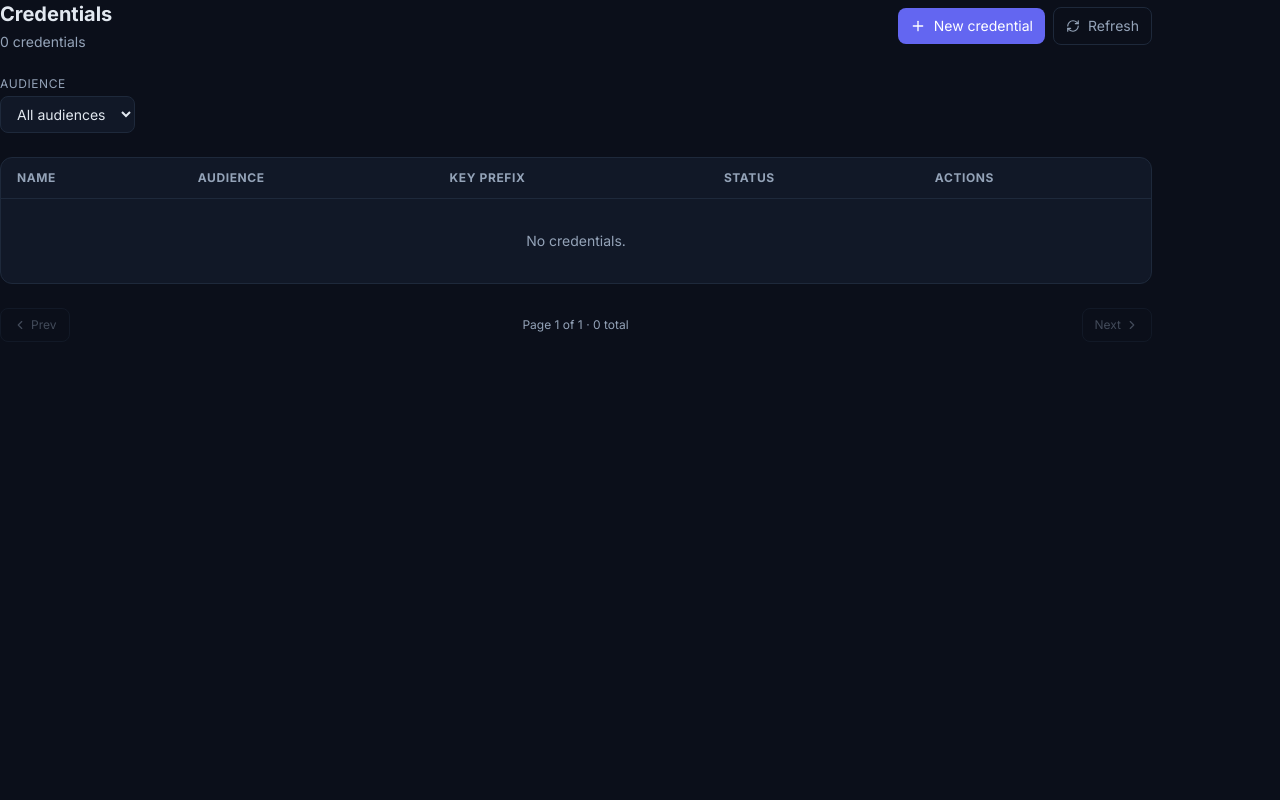
Scenario: CredentialsPage › reveals the raw key once and never persists it to storage
expect the text "No credentials." is shown: met, box x1=526 y1=232 x2=626 y2=249
Click the button "New credential" at [971, 26], box x1=898 y1=8 x2=1045 y2=44
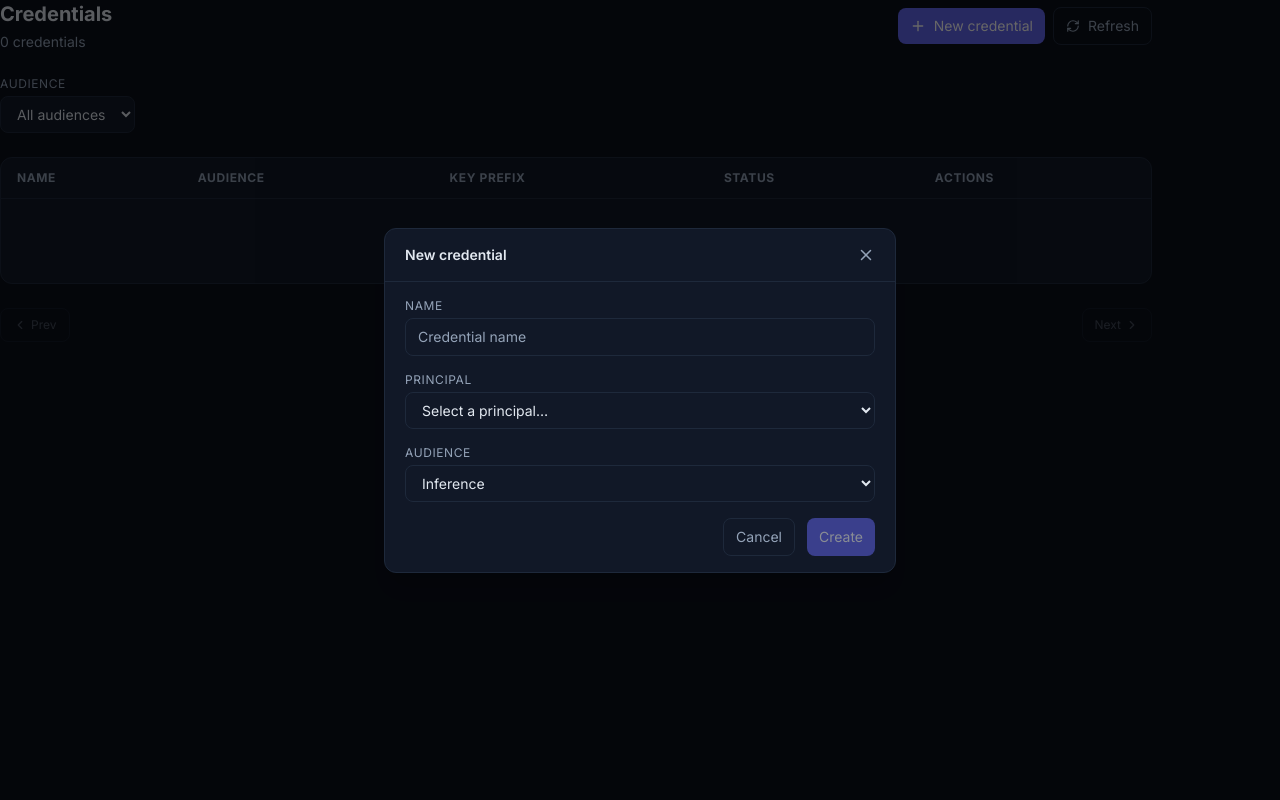
Type "inference-key" into the field labelled "Name" at [640, 336], box x1=405 y1=318 x2=875 y2=356
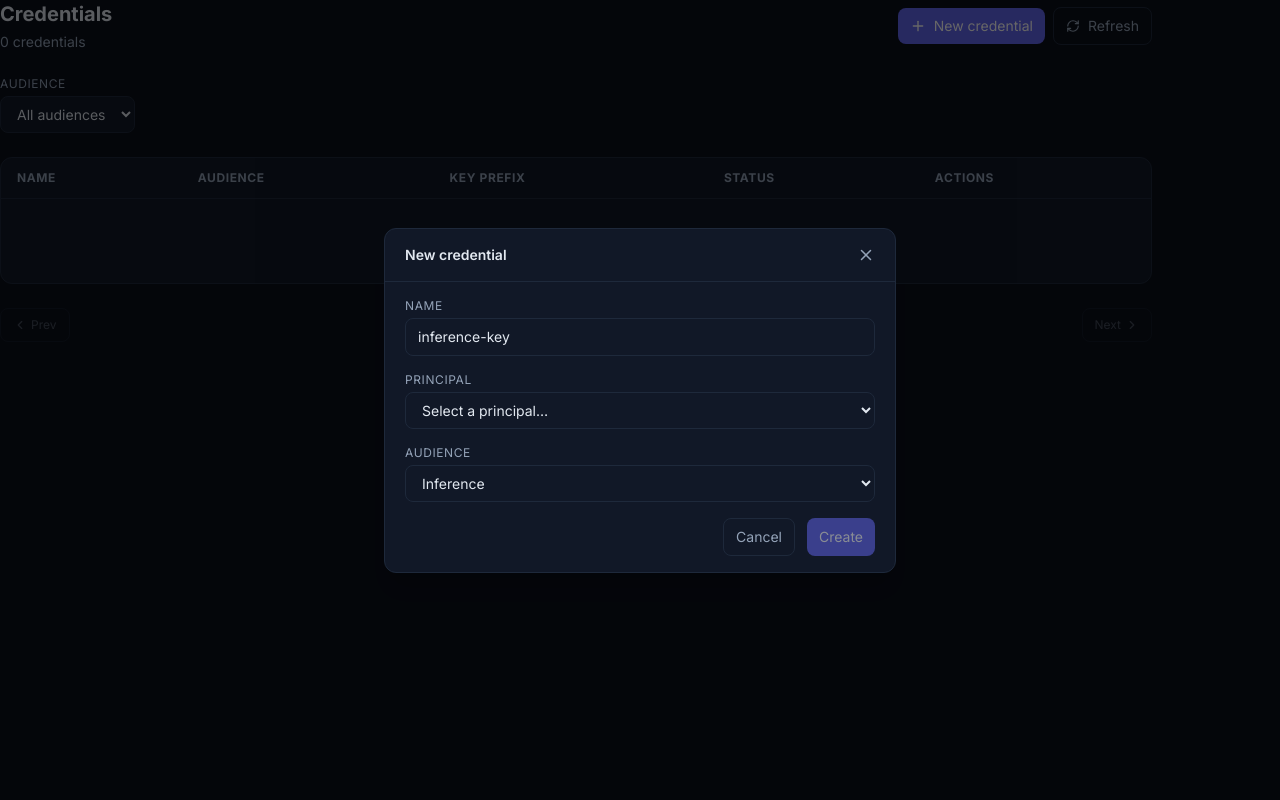
Select "alice" in the dropdown labelled "Principal" at [640, 410], box x1=405 y1=392 x2=875 y2=428
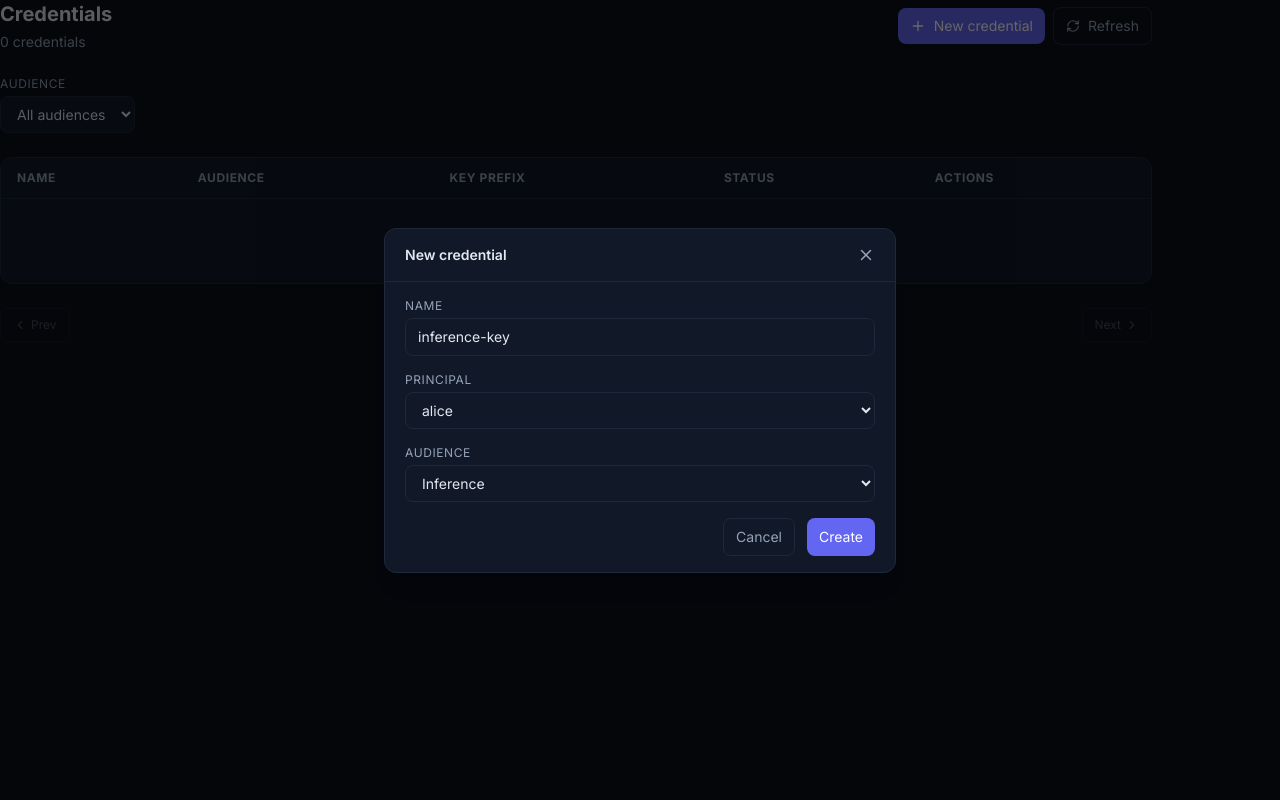
Click the button "Create" at [841, 536], box x1=807 y1=518 x2=875 y2=556
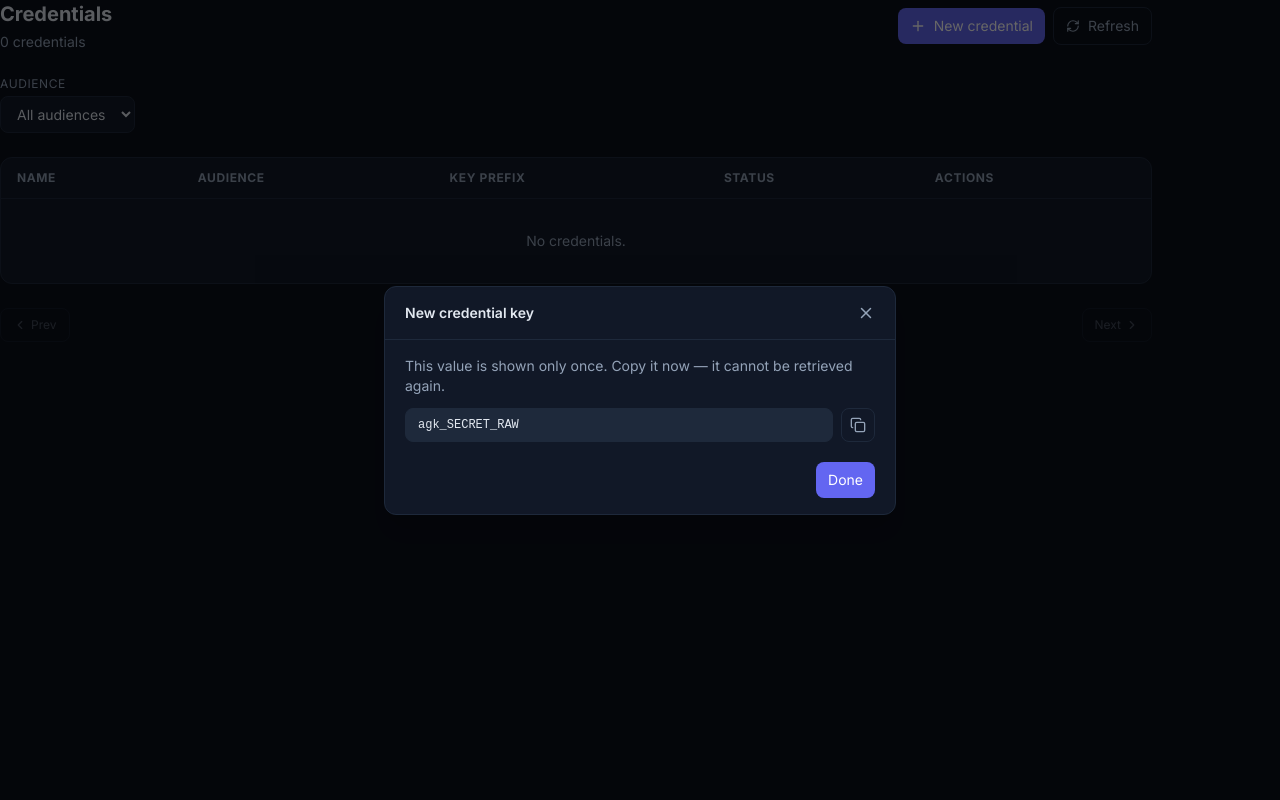
expect the text "agk_SECRET_RAW" is shown: met, box x1=405 y1=408 x2=833 y2=442
Note: Dismissing the reveal destroys the in-memory value.
Click the button "Done" at [846, 480], box x1=816 y1=462 x2=875 y2=498
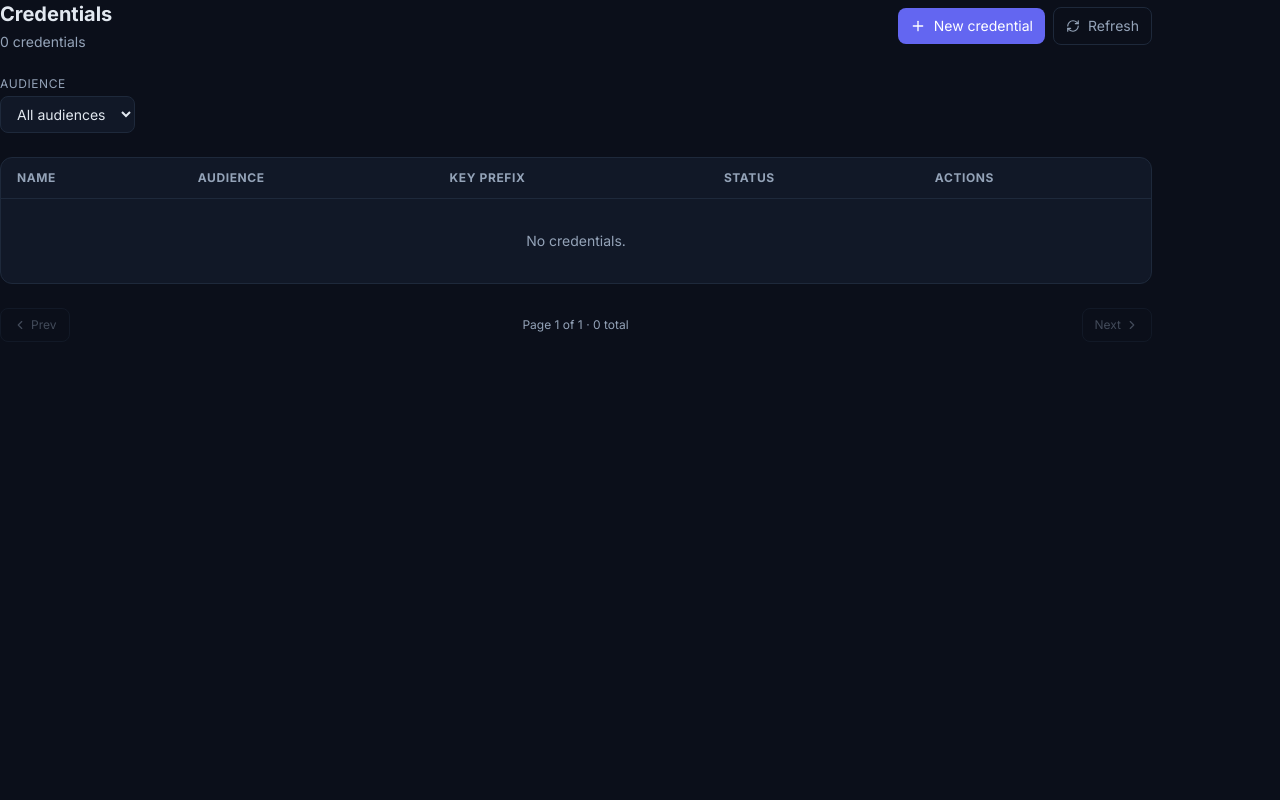
expect the text "agk_SECRET_RAW" is gone: met
